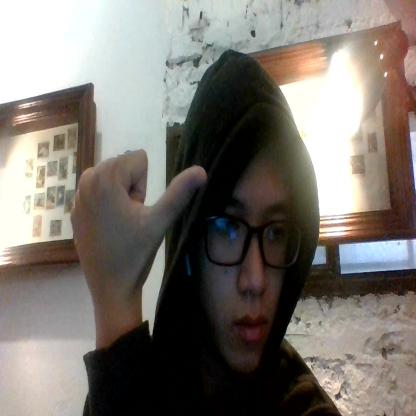left: (68, 149, 213, 282)
